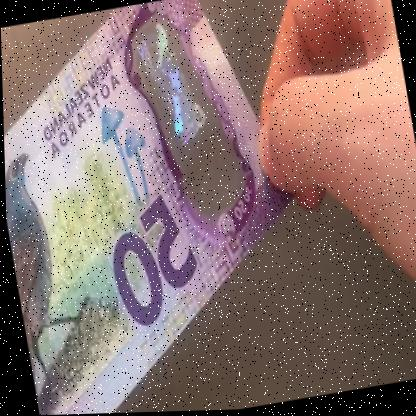50B: (131, 11, 231, 214)
